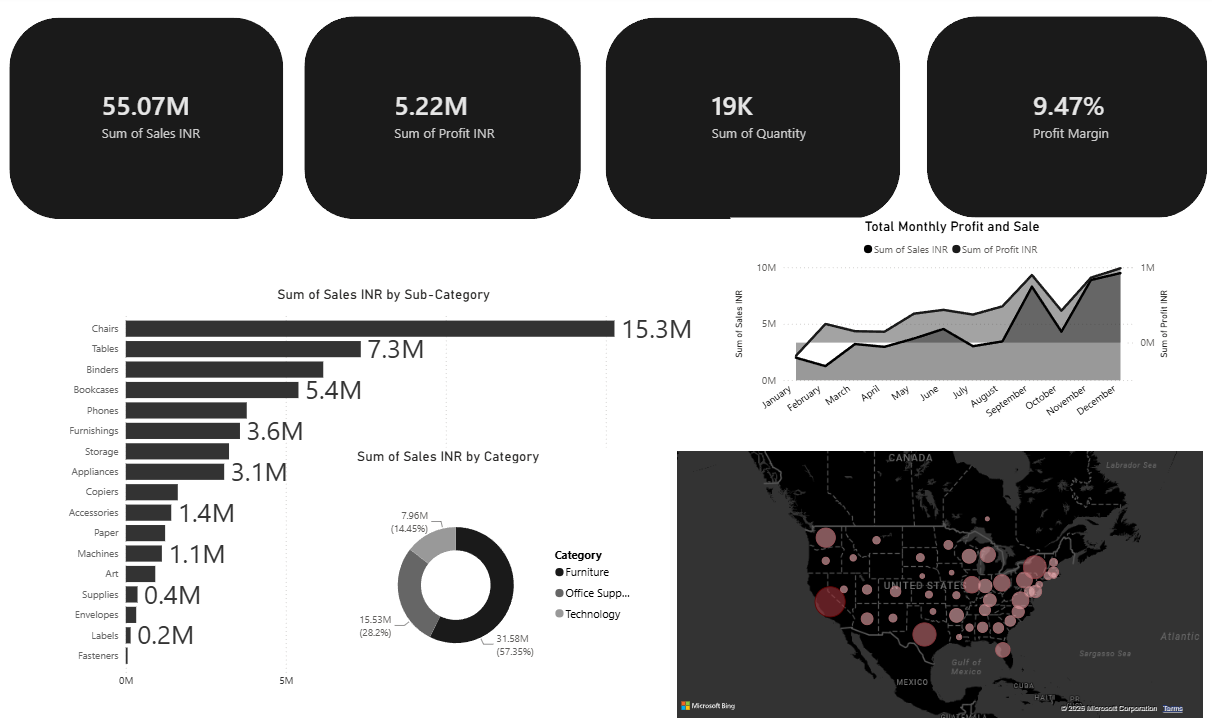

Layout of this report page (visuals, bound fields, positions):
{"tool":"powerbi","page":{"name":"Page 1","canvas":[1500,900],"ordinal":0},"visuals":[{"type":"shape","box":[20.6,26.9,335.2,246.6],"z":0},{"type":"shape","box":[1141.4,25.3,343.1,246.6],"z":1000},{"type":"shape","box":[381,25.3,338.3,248.2],"z":2000},{"type":"shape","box":[749.4,26.9,360.5,246.6],"z":3000},{"type":"cardVisual","fields":{"Data":["Sum(Orders.Profit INR)"]},"box":[461.6,72.7,200.6,145.3],"z":4000},{"type":"cardVisual","fields":{"Data":["Sum(Orders.Quantity)"]},"box":[850.6,72.7,200.6,145.3],"z":5000},{"type":"cardVisual","fields":{"Data":["Orders.Profit Margin"]},"box":[1242.6,72.7,200.6,145.3],"z":6000},{"type":"cardVisual","fields":{"Data":["Sum(Orders.Total Sales)"]},"box":[104.3,72.7,200.6,145.3],"z":7000},{"type":"barChart","fields":{"Category":["Products.Sub-Category"],"Y":["Sum(Orders.Total Sales)"]},"box":[82.2,355.7,790.5,501.2],"z":8000},{"type":"areaChart","title":"Total Monthly Profit and Sale","fields":{"Category":["Orders.Order Date.Variation.Date Hierarchy.Month"],"Y":["Sum(Orders.Sales INR)"],"Y2":["Sum(Orders.Profit INR)"]},"box":[901.1,271.9,542.3,267.2],"z":9000},{"type":"map","fields":{"Category":["Customers.State"],"Size":["Sum(Orders.Sales INR)"]},"box":[831.6,553.3,652.9,335.2],"z":10000},{"type":"donutChart","fields":{"Y":["Sum(Orders.Sales INR)"],"Category":["Products.Category"]},"box":[439.5,553.3,355.7,317.8],"z":11000}]}

Visuals, with their boxes in screenshot pixels (x1, y1, x2, y2), scaled from the page's 1500x900 canvas onto the 1212x722 screenshot:
shape: {"x1": 17, "y1": 22, "x2": 287, "y2": 219}
shape: {"x1": 922, "y1": 20, "x2": 1199, "y2": 218}
shape: {"x1": 308, "y1": 20, "x2": 581, "y2": 219}
shape: {"x1": 606, "y1": 22, "x2": 897, "y2": 219}
cardVisual - Sum(Orders.Profit INR): {"x1": 373, "y1": 58, "x2": 535, "y2": 175}
cardVisual - Sum(Orders.Quantity): {"x1": 687, "y1": 58, "x2": 849, "y2": 175}
cardVisual - Orders.Profit Margin: {"x1": 1004, "y1": 58, "x2": 1166, "y2": 175}
cardVisual - Sum(Orders.Total Sales): {"x1": 84, "y1": 58, "x2": 246, "y2": 175}
barChart - Products.Sub-Category x Sum(Orders.Total Sales): {"x1": 66, "y1": 285, "x2": 705, "y2": 687}
"Total Monthly Profit and Sale" areaChart: {"x1": 728, "y1": 218, "x2": 1166, "y2": 432}
map - Customers.State x Sum(Orders.Sales INR): {"x1": 672, "y1": 444, "x2": 1199, "y2": 713}
donutChart - Sum(Orders.Sales INR) x Products.Category: {"x1": 355, "y1": 444, "x2": 643, "y2": 699}
